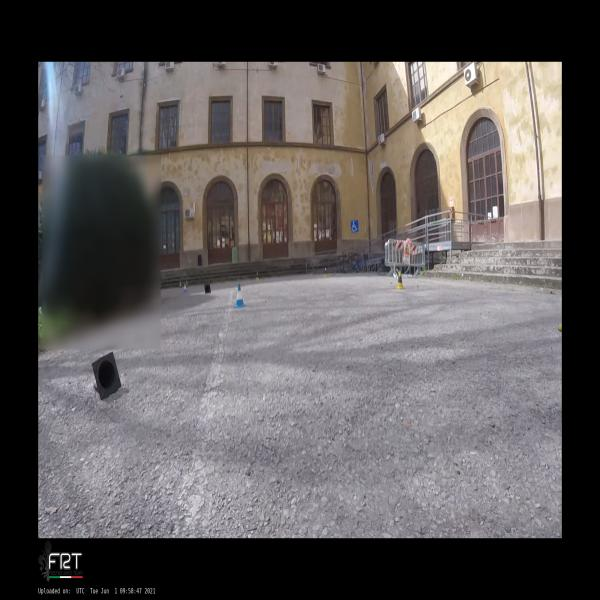blue_cone: (234, 284, 246, 308), (183, 283, 188, 293)
unknown_cone: (92, 352, 121, 400), (204, 284, 211, 294)
yellow_cone: (396, 270, 405, 290), (323, 267, 328, 278), (255, 272, 260, 281), (558, 323, 562, 333)
